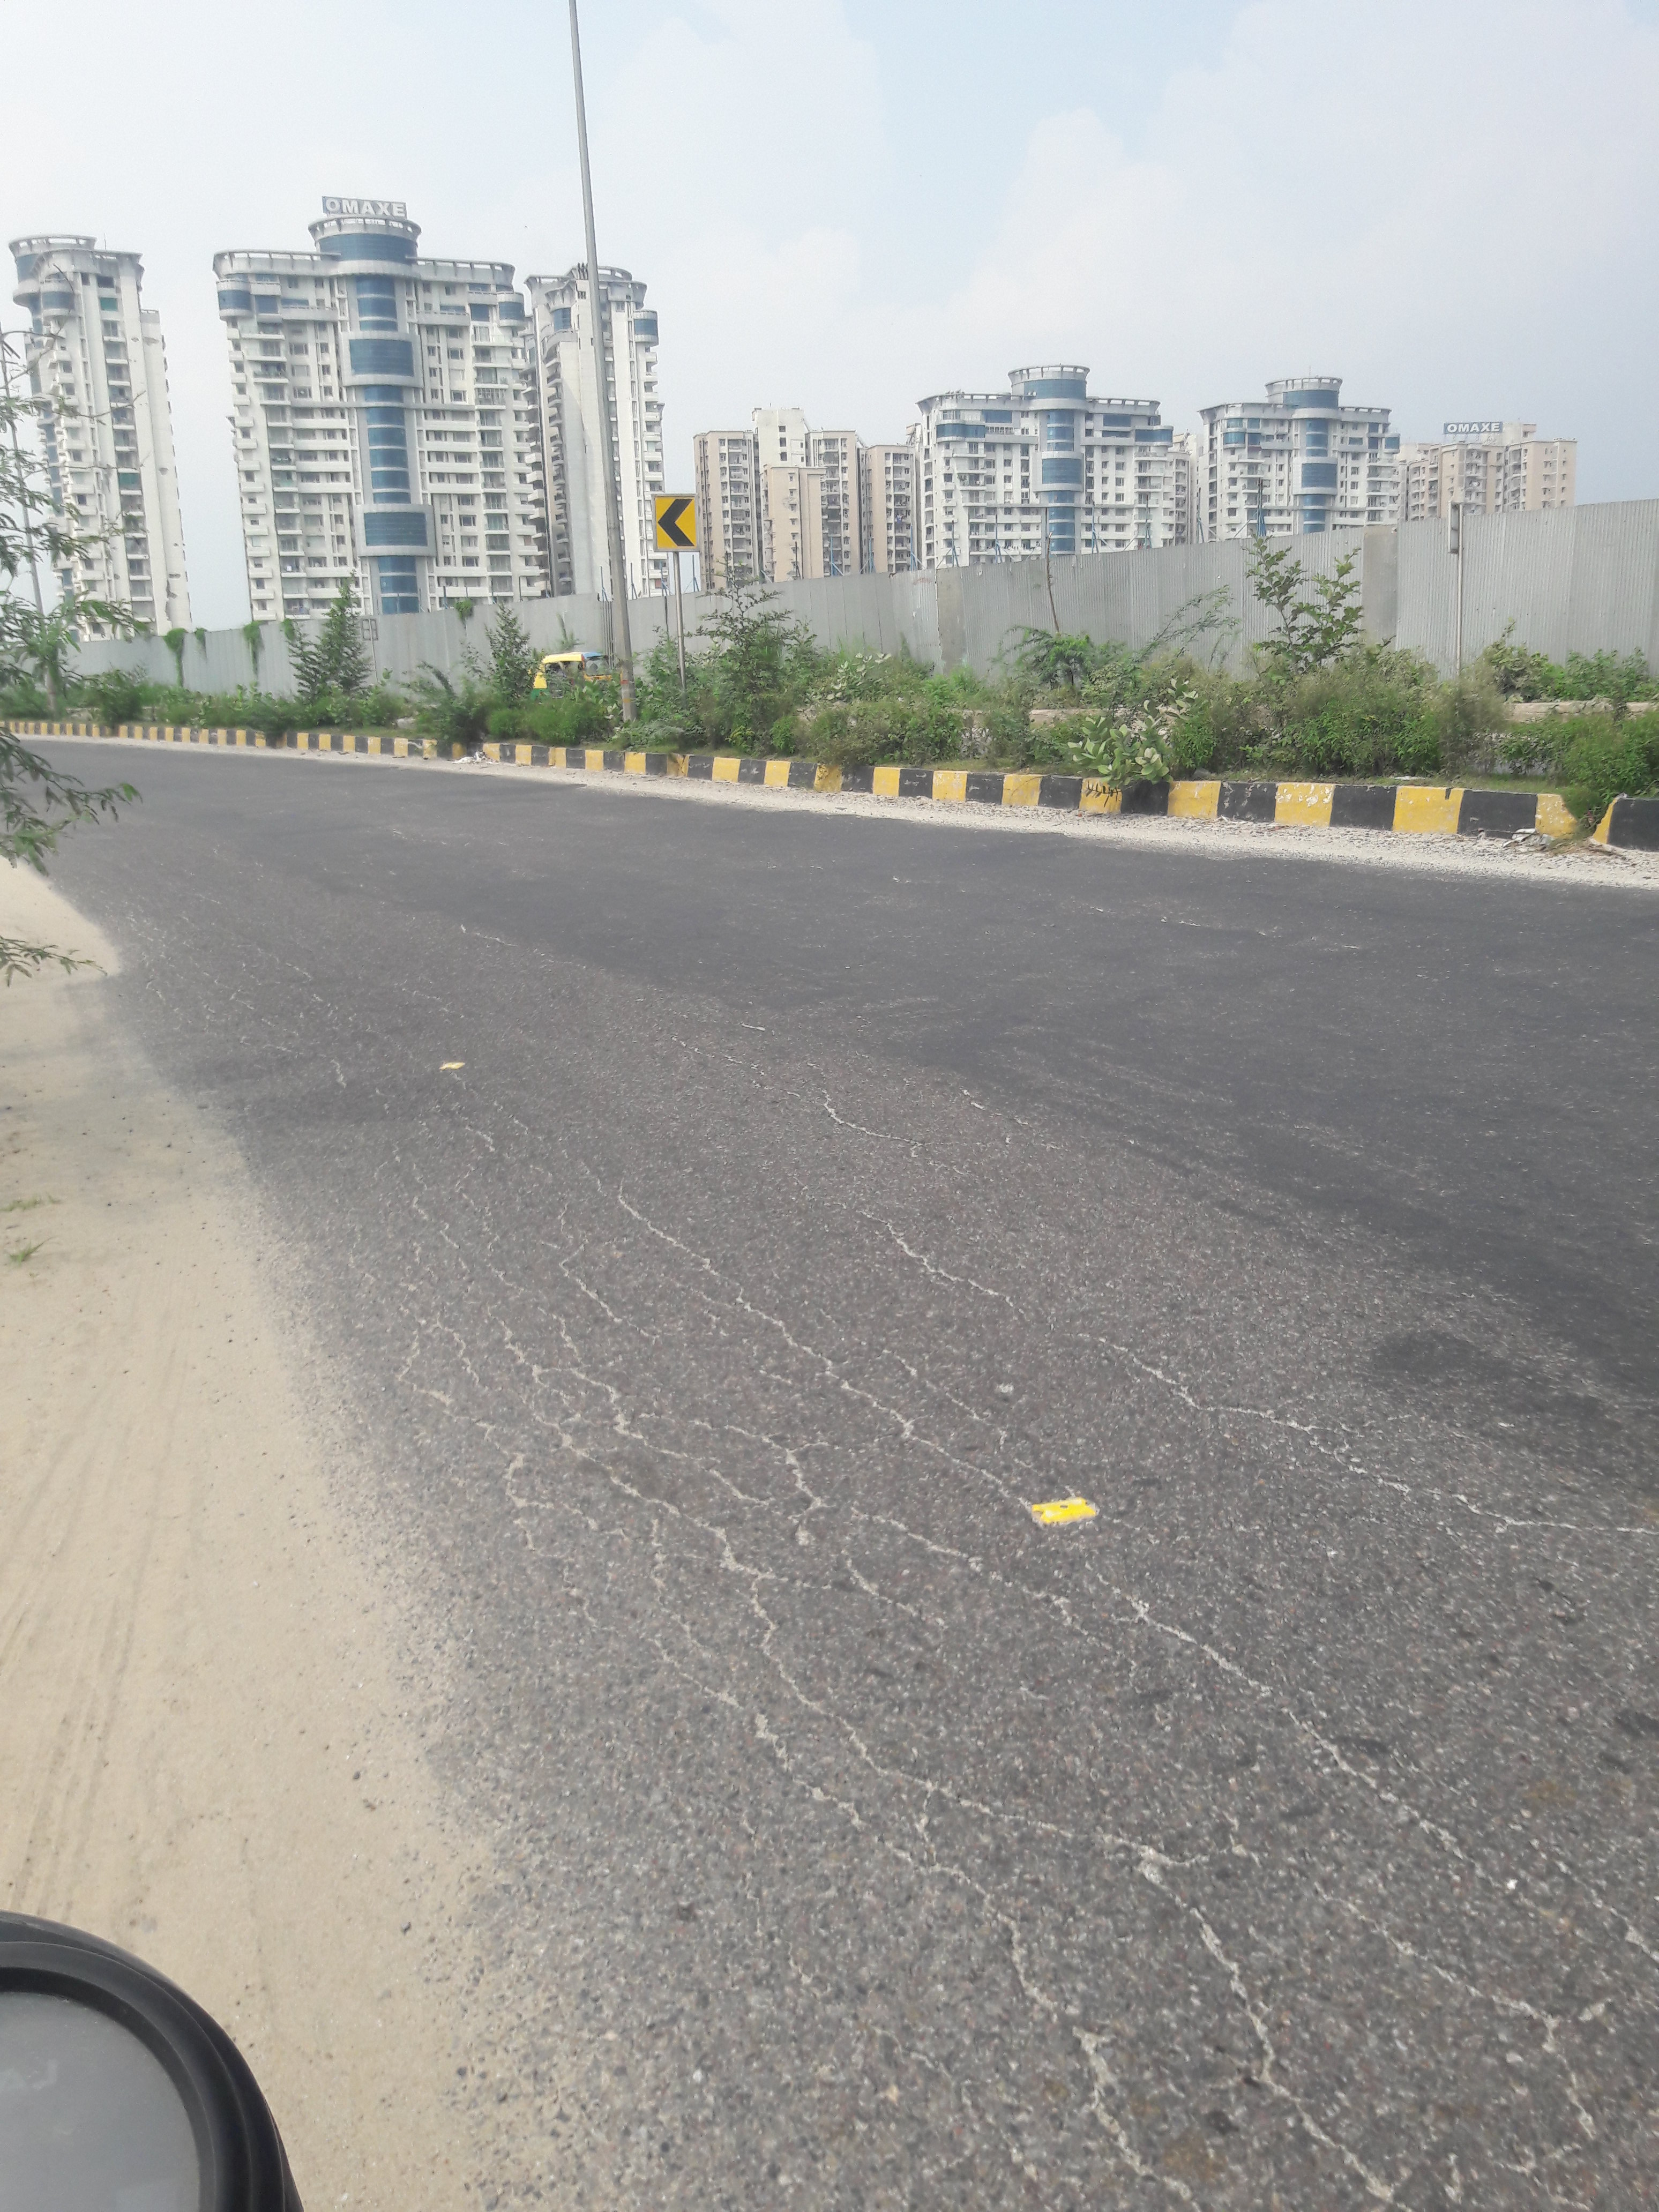traffic_sign: (653, 491, 701, 556)
